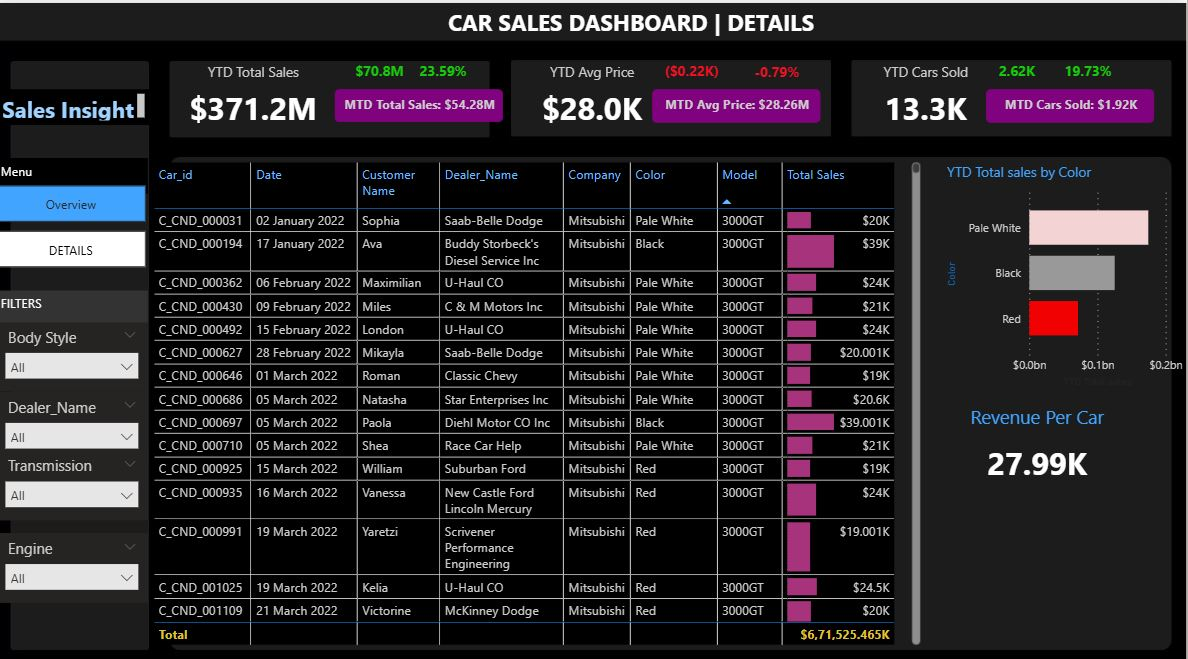

What the dashboard file says about the page in this screenshot:
{"tool":"powerbi","page":{"name":"DETAILS","canvas":[1280,720],"ordinal":1},"visuals":[{"type":"card","title":"YTD Total Sales","fields":{"Values":["car_data.YTD Total sales"]},"box":[187.8,63.1,176.9,79.5],"z":0},{"type":"card","fields":{"Values":["car_data.Sales Difference"]},"box":[364.7,46.6,96,56.2],"z":1000},{"type":"card","fields":{"Values":["car_data.YOY Sales Growth"]},"box":[433.3,46.6,96,56.2],"z":2000},{"type":"card","fields":{"Values":["car_data.MTD KPI"]},"box":[364.7,93.2,181,35],"z":3000},{"type":"card","title":"YTD Avg Price","fields":{"Values":["car_data.YTD Avg Price"]},"box":[552.5,63.1,176.9,79.5],"z":4000},{"type":"card","fields":{"Values":["car_data.Avg Price Diff"]},"box":[700.6,46.6,96,56.2],"z":5000},{"type":"card","fields":{"Values":["car_data.YOY Avg Price Growth"]},"box":[791.1,48,96,56.2],"z":6000},{"type":"card","fields":{"Values":["car_data.MTD Avg Price KPI"]},"box":[706.1,93.2,181,35.6],"z":7000},{"type":"card","title":"YTD Cars Sold","fields":{"Values":["car_data.YTD Cars Sold"]},"box":[910.4,63.1,176.9,79.5],"z":8000},{"type":"card","fields":{"Values":["car_data.Cars Sold Diff"]},"box":[1048.9,46.6,96,56.2],"z":9000},{"type":"card","fields":{"Values":["car_data.YOY Car Sold Growth"]},"box":[1125.6,46.6,96,56.2],"z":10000},{"type":"card","fields":{"Values":["car_data.MTD Cars Sold KPI"]},"box":[1063.9,93.2,181,35.6],"z":11000},{"type":"textbox","box":[481.2,0,545.7,111.1],"z":12000},{"type":"slicer","fields":{"Values":["car_data.Body Style"]},"box":[0,342.8,163.2,75.4],"z":13000},{"type":"slicer","fields":{"Values":["car_data.Dealer_Name"]},"box":[0,418.2,163.2,75.4],"z":14000},{"type":"slicer","fields":{"Values":["car_data.Transmission"]},"box":[0,481.2,163.2,75.4],"z":15000},{"type":"slicer","fields":{"Values":["car_data.Engine"]},"box":[0,570.4,163.2,75.4],"z":16000},{"type":"textbox","box":[0,308.5,163.2,34.3],"z":17000},{"type":"tableEx","fields":{"Values":["car_data.Car_id","car_data.Date","car_data.Customer Name","car_data.Dealer_Name","car_data.Company","car_data.Color","car_data.Model","car_data.Price ($)"]},"box":[163.9,166.6,834.4,528.1],"z":18000},{"type":"textbox","box":[1.4,93.2,163.2,38.4],"z":19000},{"type":"textbox","box":[0,167.3,163.2,38.4],"z":20000},{"type":"pageNavigator","box":[0,196.1,161.8,89.1],"z":21000},{"type":"clusteredBarChart","title":"YTD Cars Sold by Color","fields":{"Category":["car_data.Color"],"Y":["car_data.YTD Total sales"]},"box":[1017.2,170.6,263.4,247.2],"z":22000},{"type":"card","title":"Revenue Per Car","fields":{"Values":["car_data.Revenue per Car"]},"box":[1017.2,507.9,204.2,100.8],"z":23000}]}

Visuals, with their boxes on the page's 1280x720 design canvas (x1, y1, x2, y2). These are canvas units, not pixel positions in the 1188x659 screenshot, which may show the page scaled, cropped or inside an application window:
"YTD Total Sales" card: detection(188, 63, 365, 143)
card - car_data.Sales Difference: detection(365, 47, 461, 103)
card - car_data.YOY Sales Growth: detection(433, 47, 529, 103)
card - car_data.MTD KPI: detection(365, 93, 546, 128)
"YTD Avg Price" card: detection(552, 63, 729, 143)
card - car_data.Avg Price Diff: detection(701, 47, 797, 103)
card - car_data.YOY Avg Price Growth: detection(791, 48, 887, 104)
card - car_data.MTD Avg Price KPI: detection(706, 93, 887, 129)
"YTD Cars Sold" card: detection(910, 63, 1087, 143)
card - car_data.Cars Sold Diff: detection(1049, 47, 1145, 103)
card - car_data.YOY Car Sold Growth: detection(1126, 47, 1222, 103)
card - car_data.MTD Cars Sold KPI: detection(1064, 93, 1245, 129)
textbox: detection(481, 0, 1027, 111)
slicer - car_data.Body Style: detection(0, 343, 163, 418)
slicer - car_data.Dealer_Name: detection(0, 418, 163, 494)
slicer - car_data.Transmission: detection(0, 481, 163, 557)
slicer - car_data.Engine: detection(0, 570, 163, 646)
textbox: detection(0, 308, 163, 343)
tableEx - car_data.Car_id x car_data.Date: detection(164, 167, 998, 695)
textbox: detection(1, 93, 165, 132)
textbox: detection(0, 167, 163, 206)
pageNavigator: detection(0, 196, 162, 285)
"YTD Cars Sold by Color" clusteredBarChart: detection(1017, 171, 1281, 418)
"Revenue Per Car" card: detection(1017, 508, 1221, 609)
